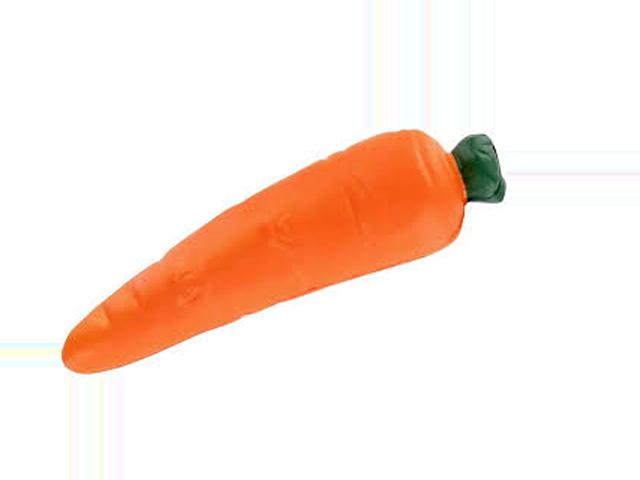carrot: (60, 132, 465, 379)
